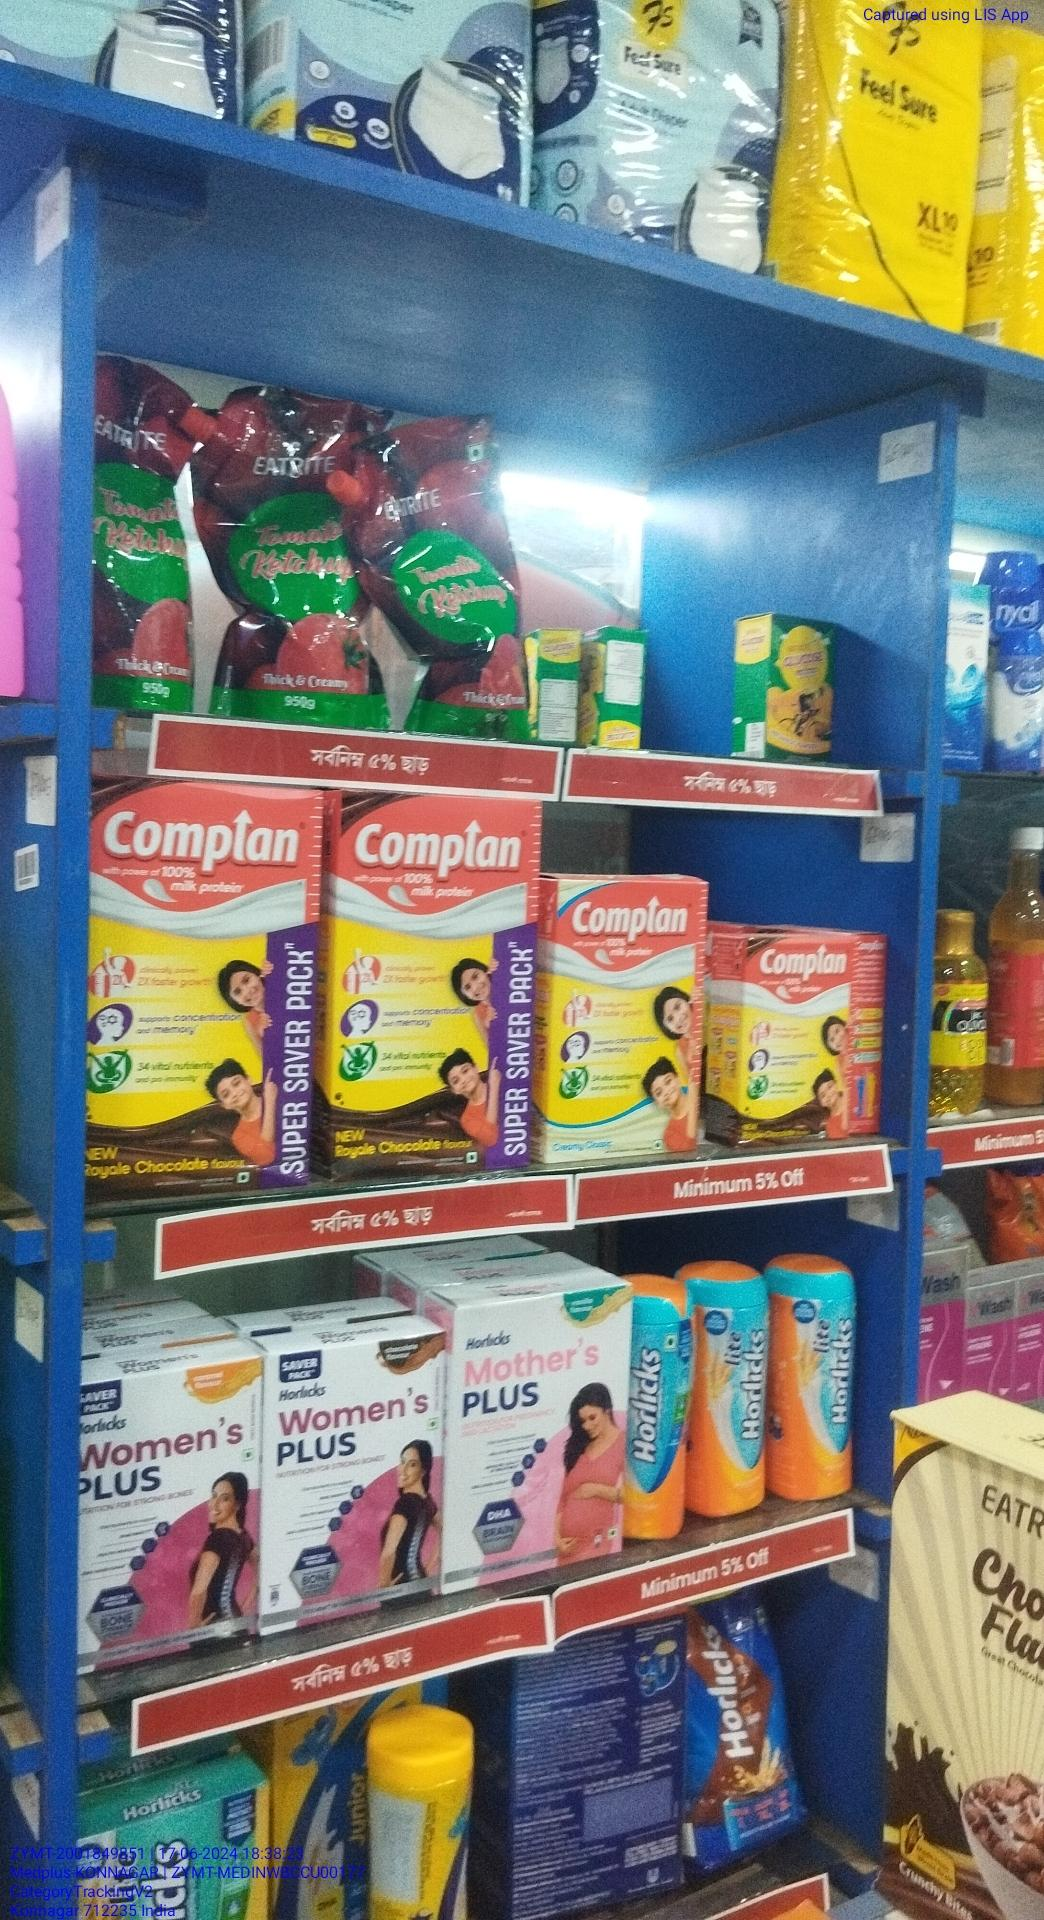COMPLAN_CHOCOLATE_1_KG_PACK: (89, 775, 310, 1189), (330, 784, 527, 1172)
COMPLAN_CHOCOLATE_200_GMS_PACK: (737, 932, 850, 1146)
COMPLAN_CREAMY_CLASSIC_500_G_PACK: (548, 882, 703, 1159)
